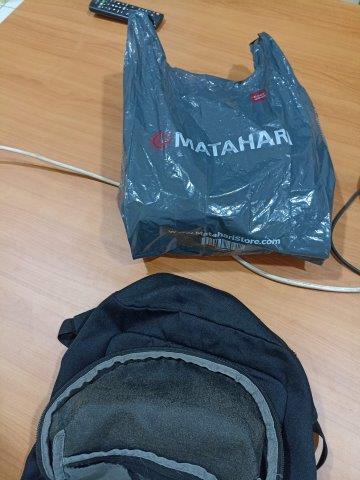plastik: (121, 10, 335, 259)
